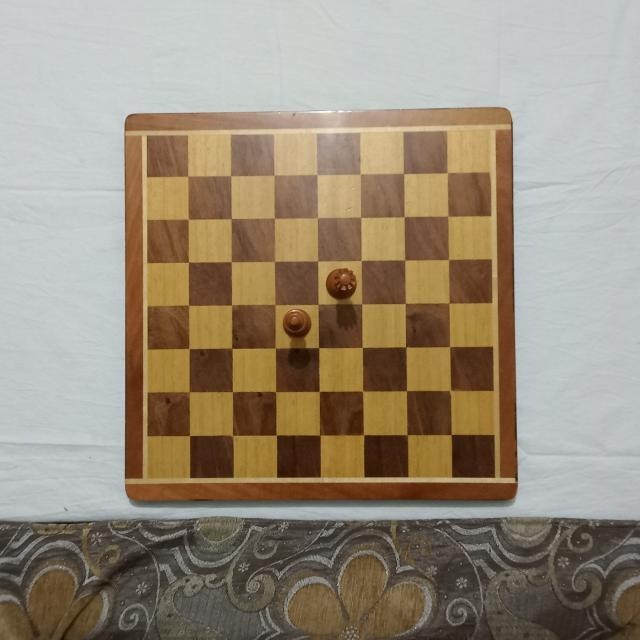white-king: (283, 307, 313, 337)
white-queen: (325, 266, 358, 299)
